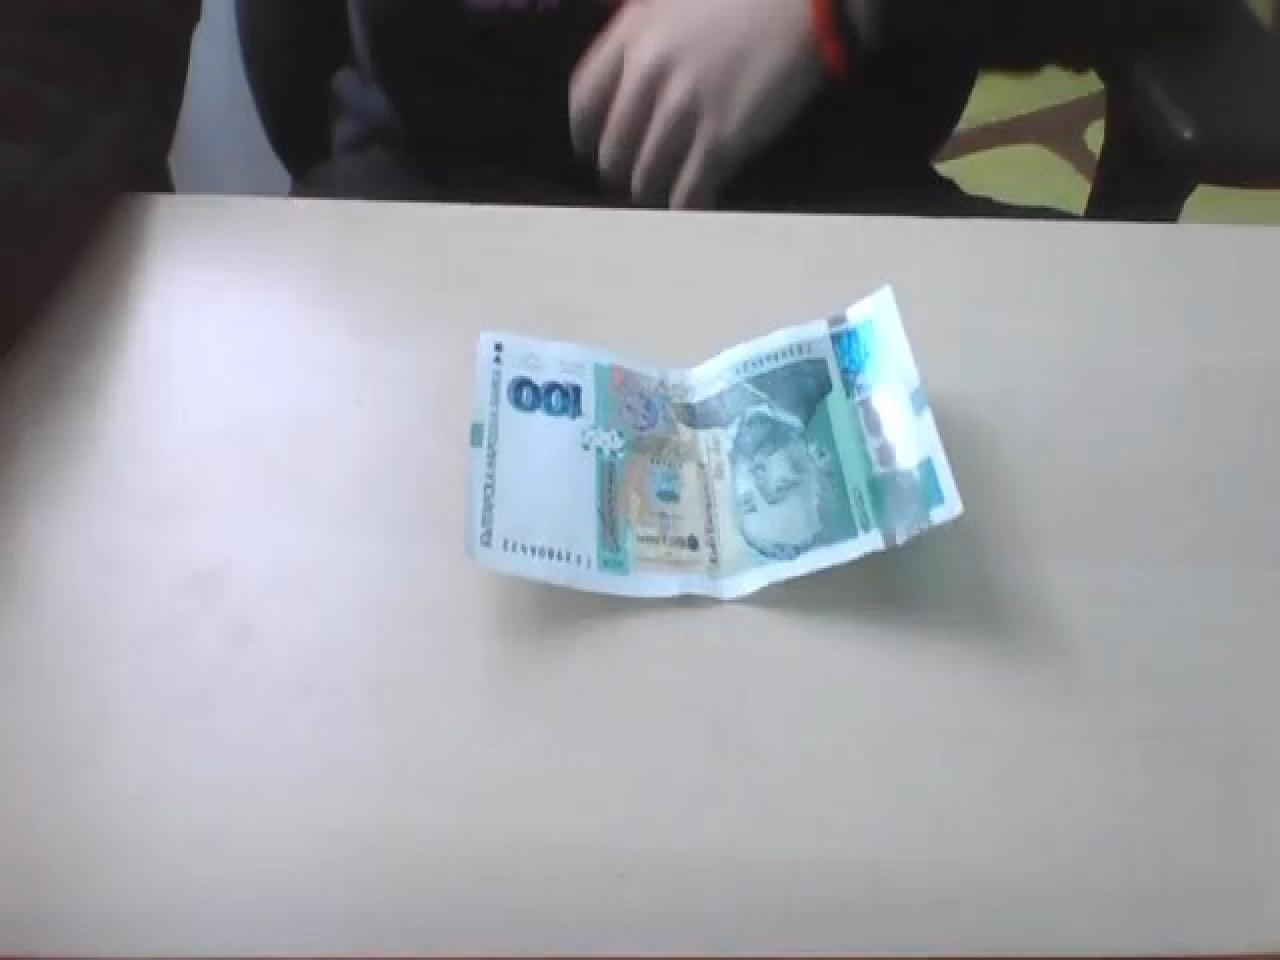100leva: (464, 282, 964, 602), (504, 370, 584, 418)
